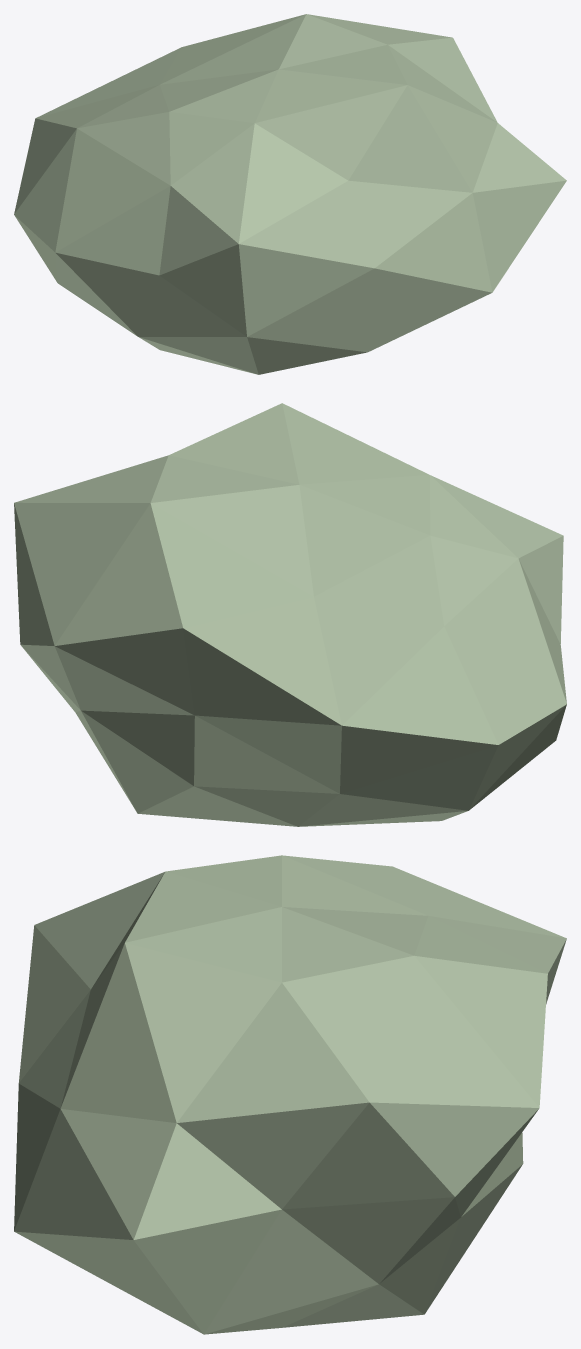
The model's file is moldavite.glb.
The picture shows the model from 3 angles, top to bottom: view 1: azimuth 30°, elevation 25°; view 2: azimuth 150°, elevation 25°; view 3: azimuth 270°, elevation 25°; orthographic projection. The views are drawn at different scales.
Visible parts, largest first — view 1: moldavite; view 2: moldavite; view 3: moldavite.
Part boxes in pixels (box(x1,y1,x2,y2)): moldavite: box(14, 14, 566, 374); moldavite: box(14, 403, 566, 826); moldavite: box(14, 855, 566, 1334).
Bounding box in the file's own units: 0.25 × 0.1395 × 0.1908.
